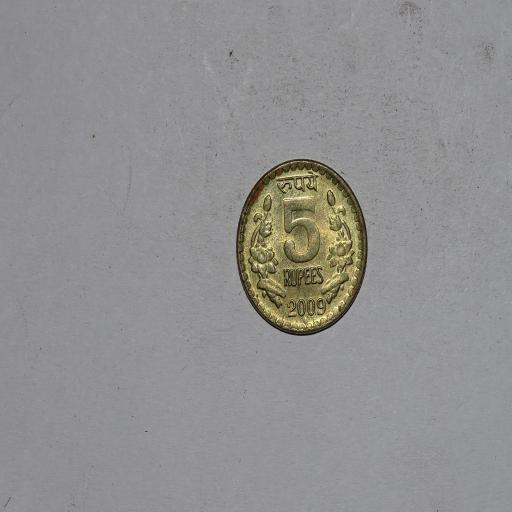rupee5: (229, 157, 367, 342)
